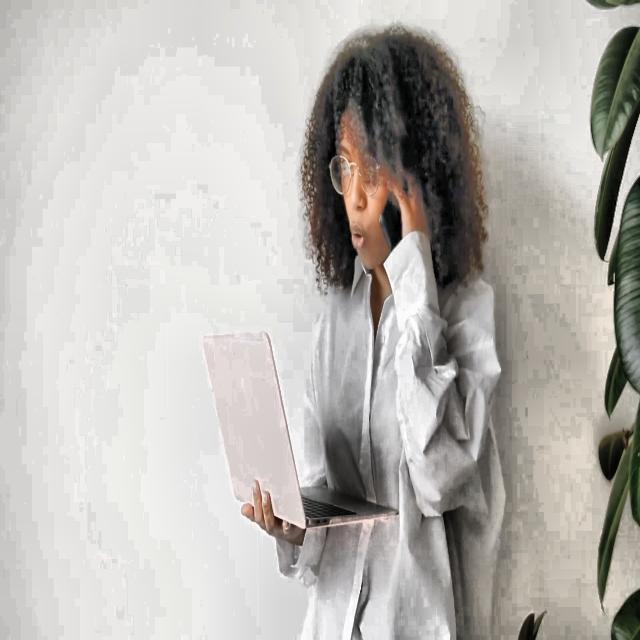Phone: (378, 172, 407, 253)
